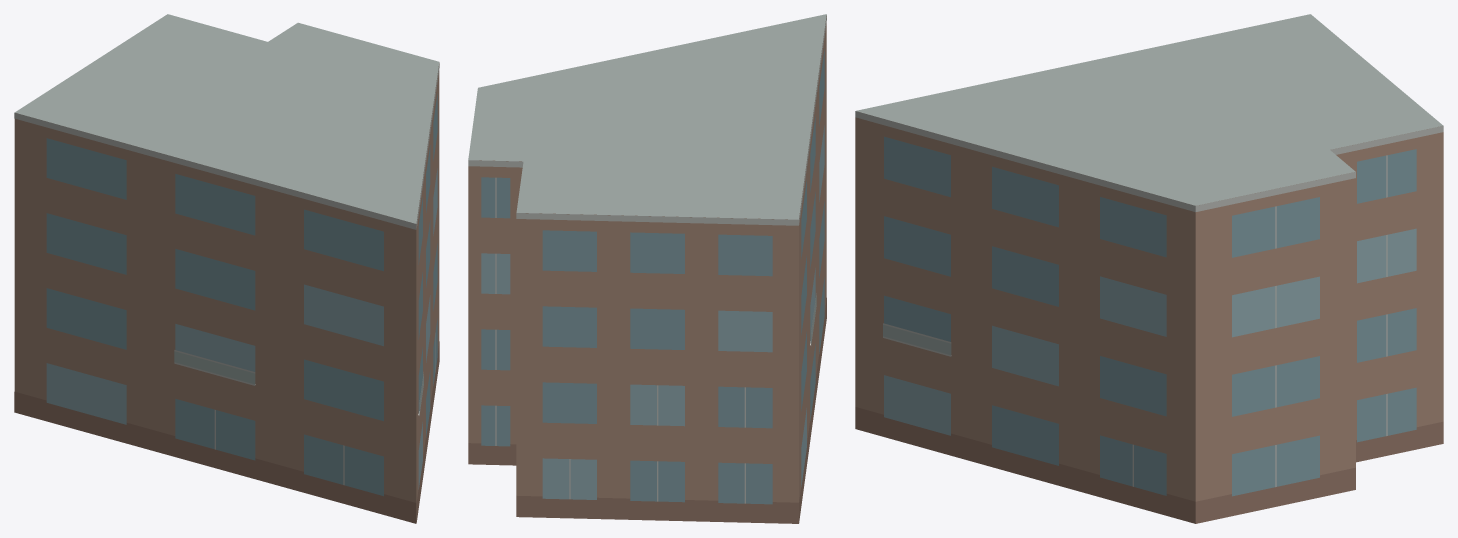
Rendered from residential-176cc7f4-5514-4db8-ac0a-9b60ad0ca377.glb.
The picture shows the model from 3 angles, left to right: view 1: azimuth 30°, elevation 25°; view 2: azimuth 150°, elevation 25°; view 3: azimuth 270°, elevation 25°; orthographic projection. The views are drawn at different scales.
Parts seen in each view (by area): view 1: residential-176cc7f4-5514-4db8-ac0a-9b60ad0ca377.tmp; view 2: residential-176cc7f4-5514-4db8-ac0a-9b60ad0ca377.tmp; view 3: residential-176cc7f4-5514-4db8-ac0a-9b60ad0ca377.tmp.
Boxes of the visible parts, box(x1,y1,x2,y2) form: residential-176cc7f4-5514-4db8-ac0a-9b60ad0ca377.tmp: box(14, 14, 439, 523); residential-176cc7f4-5514-4db8-ac0a-9b60ad0ca377.tmp: box(468, 14, 826, 523); residential-176cc7f4-5514-4db8-ac0a-9b60ad0ca377.tmp: box(855, 14, 1443, 523).
Bounding box in the file's own units: 15.79 × 12.2 × 20.46.
